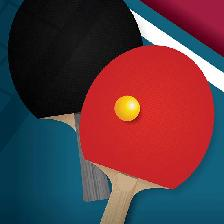YellowBall: (114, 95, 140, 121)
